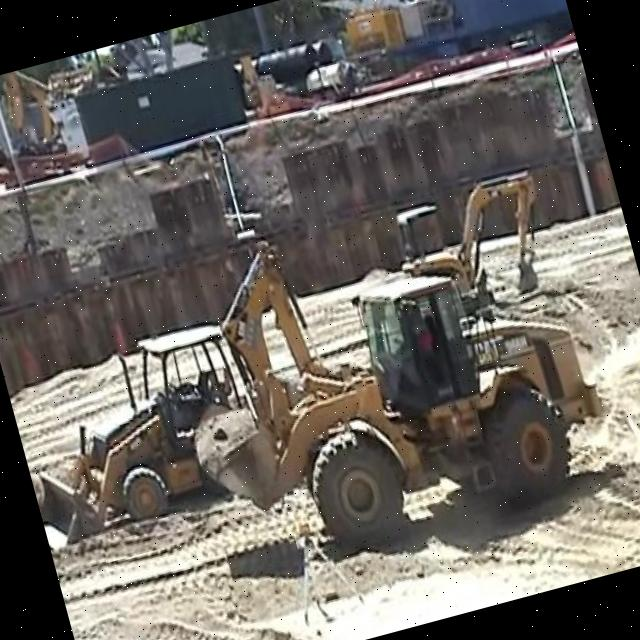Excavator: (382, 164, 564, 338)
Loader: (164, 235, 622, 589)
